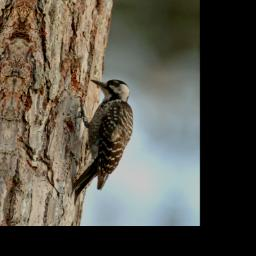Woodpecker: (61, 71, 141, 211)
